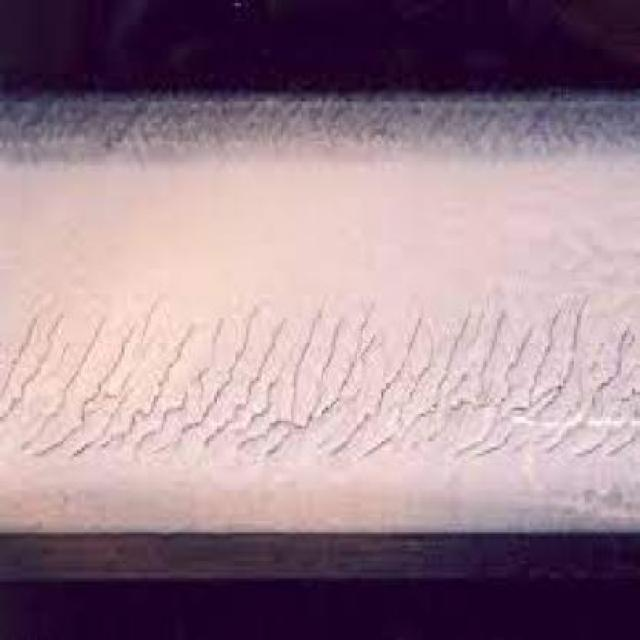defective: (0, 88, 640, 561)
